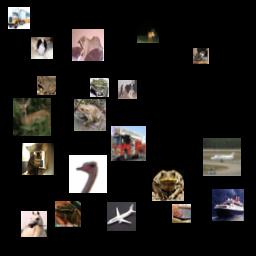airplane: (203, 138, 241, 176), (107, 202, 136, 231)
bird: (69, 155, 107, 193)
cat: (72, 29, 104, 61), (22, 143, 54, 175), (193, 48, 209, 64)
deer: (13, 98, 51, 136), (137, 21, 159, 43)
dog: (31, 37, 53, 59), (118, 80, 137, 99)
frog: (74, 99, 106, 131), (152, 169, 184, 201), (55, 201, 81, 227), (90, 78, 109, 97), (37, 76, 56, 95)
ship: (212, 189, 244, 221), (172, 204, 191, 223)
